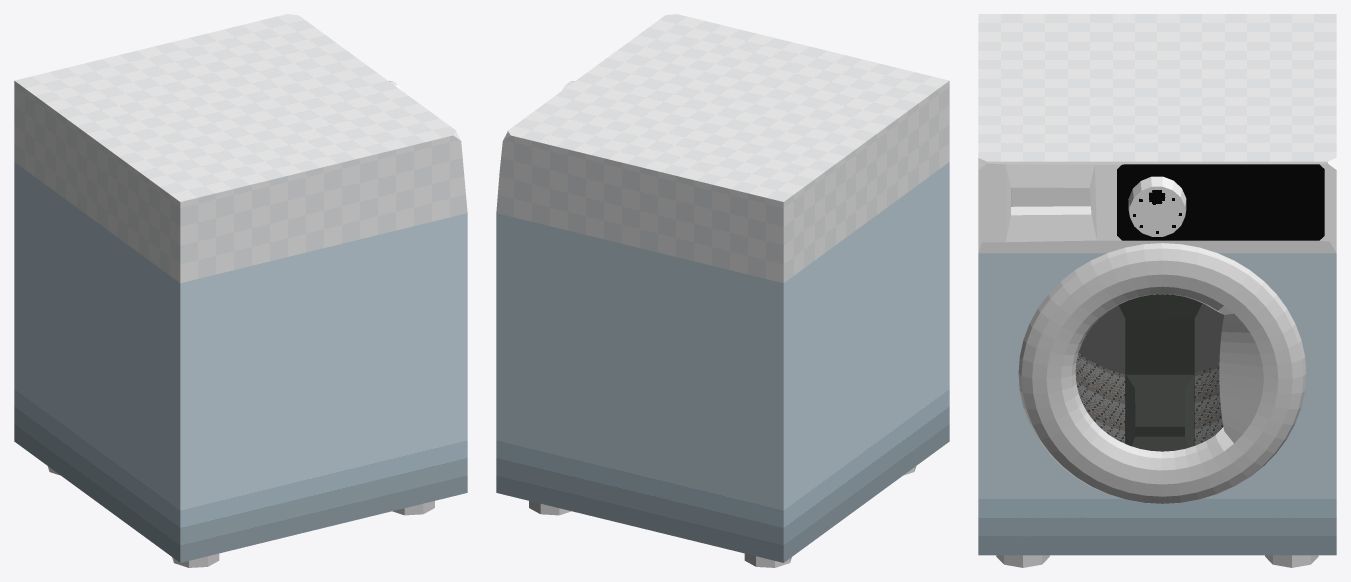
The model's file is washing machine knob.glb.
3 views of the same model, side by side, from view 1: azimuth 30°, elevation 25°; view 2: azimuth 150°, elevation 25°; view 3: azimuth 270°, elevation 25° (orthographic). The views are drawn at different scales.
Parts seen in each view (by area): view 1: Washing Machine; view 2: Washing Machine; view 3: Washing Machine, Torus, Drum Washer, Drum, Knob, Cylinder, Cylinder.002.
Part boxes in pixels (left/top/right/bottom): Washing Machine: left=14, top=14, right=467, bottom=562; Washing Machine: left=496, top=14, right=949, bottom=562; Washing Machine: left=978, top=14, right=1336, bottom=555; Torus: left=1018, top=243, right=1306, bottom=503; Drum Washer: left=1118, top=294, right=1202, bottom=451; Drum: left=1075, top=303, right=1224, bottom=445; Knob: left=1128, top=176, right=1186, bottom=236; Cylinder: left=996, top=555, right=1049, bottom=567; Cylinder.002: left=1265, top=555, right=1318, bottom=567.
Size of the model in its own units: 4.16 by 5.05 by 4.
Materials: 8 (4 with a texture image).
